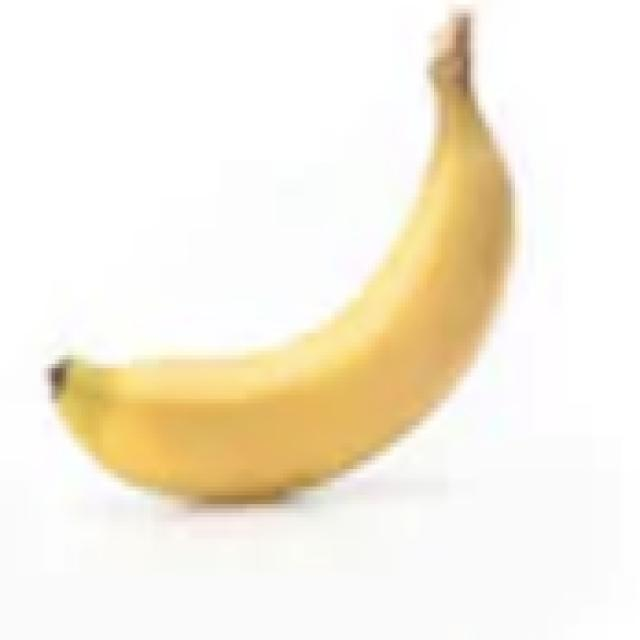fresh-banana: (44, 4, 515, 504)
